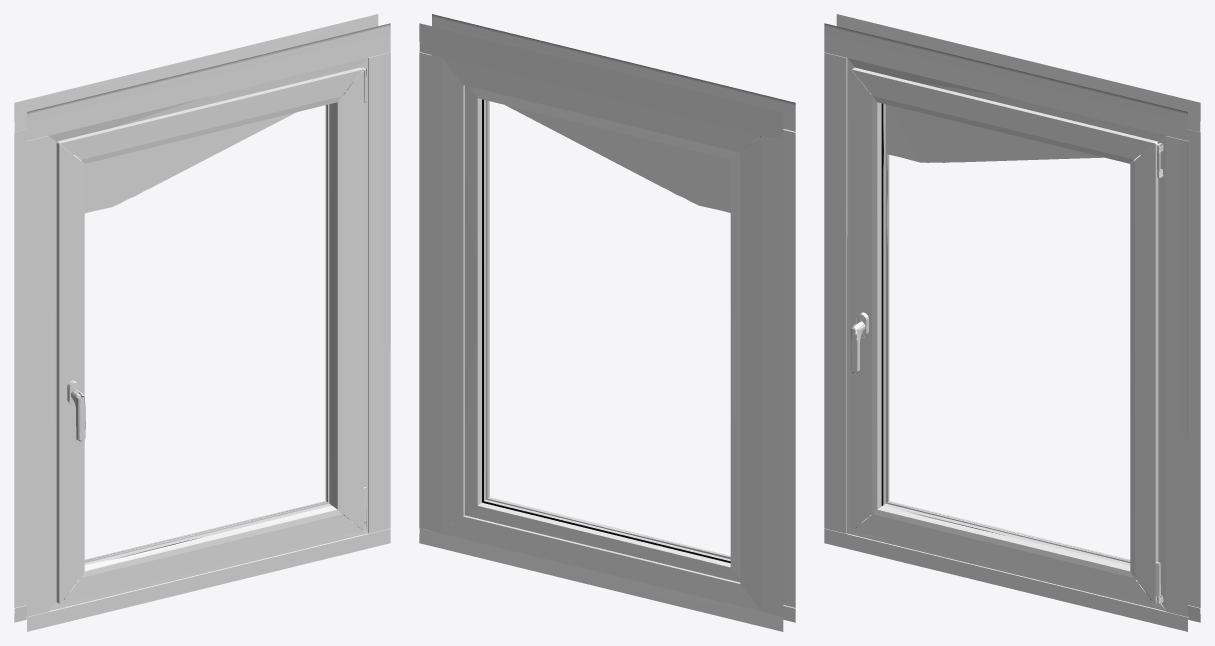
Rendered from w_window.glb.
The picture shows the model from 3 angles, left to right: view 1: azimuth 30°, elevation 25°; view 2: azimuth 150°, elevation 25°; view 3: azimuth 330°, elevation 25°; orthographic projection.
Size of the model in its own units: 1.04 by 1.42 by 0.1276.
Materials: 1 (1 with a texture image).
